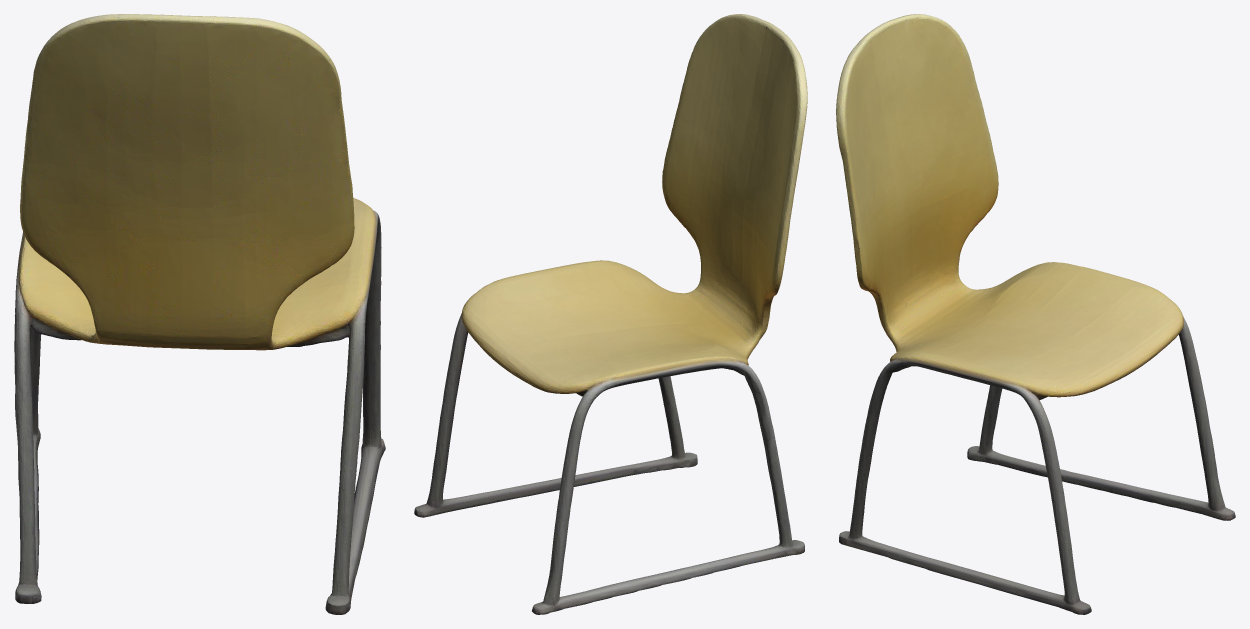
The model's file is light-colored_wooden_chair_partially_visible_behind_foreground_table_(center-left)_000.glb.
The picture shows the model from 3 angles, left to right: view 1: azimuth 30°, elevation 25°; view 2: azimuth 150°, elevation 25°; view 3: azimuth 270°, elevation 25°; orthographic projection. The views are drawn at different scales.
Parts seen in each view (by area): view 1: phase2_final_light-colored_wooden_chair_partially_visible_be; view 2: phase2_final_light-colored_wooden_chair_partially_visible_be; view 3: phase2_final_light-colored_wooden_chair_partially_visible_be.
Part boxes in pixels (x1,y1,x2,y2): phase2_final_light-colored_wooden_chair_partially_visible_be: (14, 14, 385, 614); phase2_final_light-colored_wooden_chair_partially_visible_be: (414, 14, 807, 614); phase2_final_light-colored_wooden_chair_partially_visible_be: (836, 14, 1235, 614).
Size of the model in its own units: 0.1949 by 0.2614 by 0.2045.
1 material, 1 textured.
